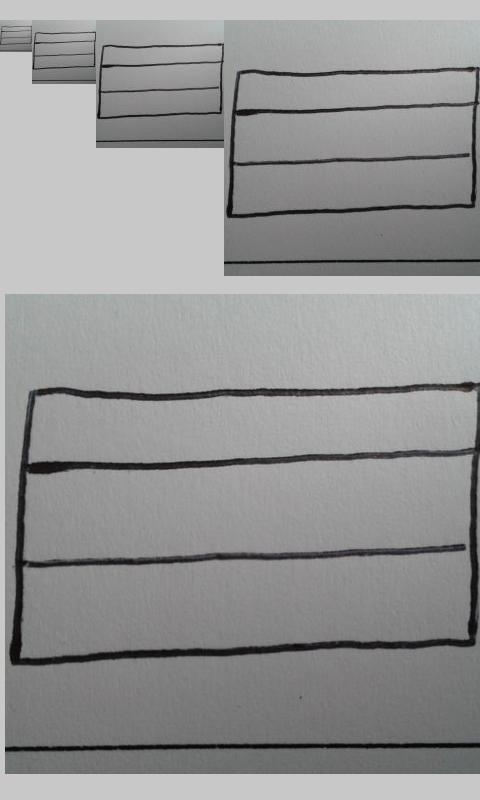list_view: (12, 384, 480, 667), (227, 66, 480, 218), (98, 43, 224, 119), (33, 32, 96, 70), (1, 25, 32, 46)
